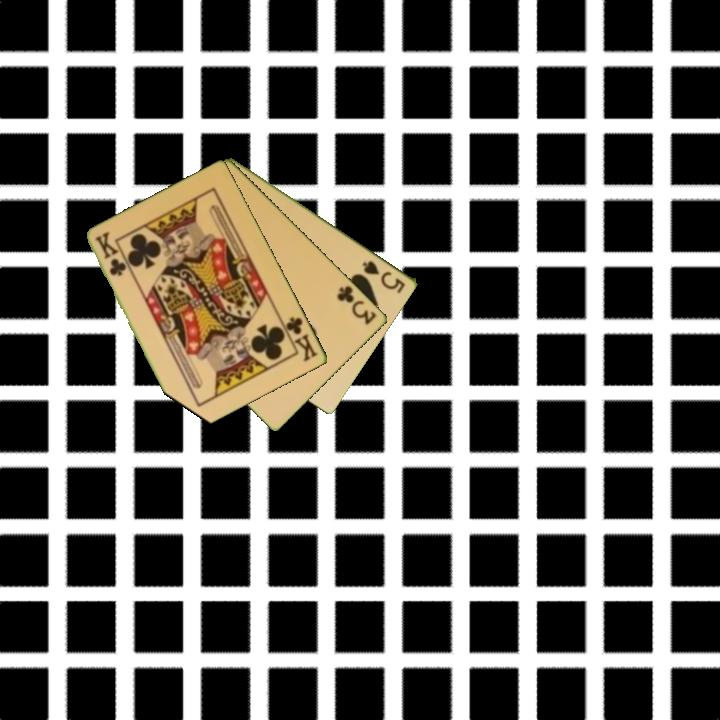3c: (333, 282, 380, 328)
5s: (359, 257, 408, 296)
Kc: (278, 313, 321, 365), (91, 229, 128, 279)
